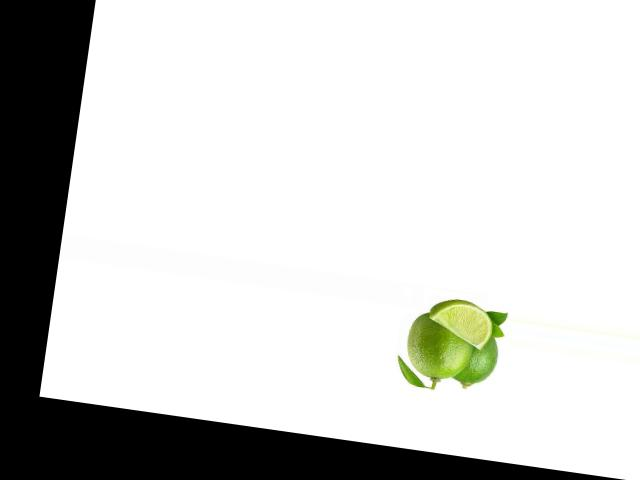lemon: (401, 312, 474, 386)
